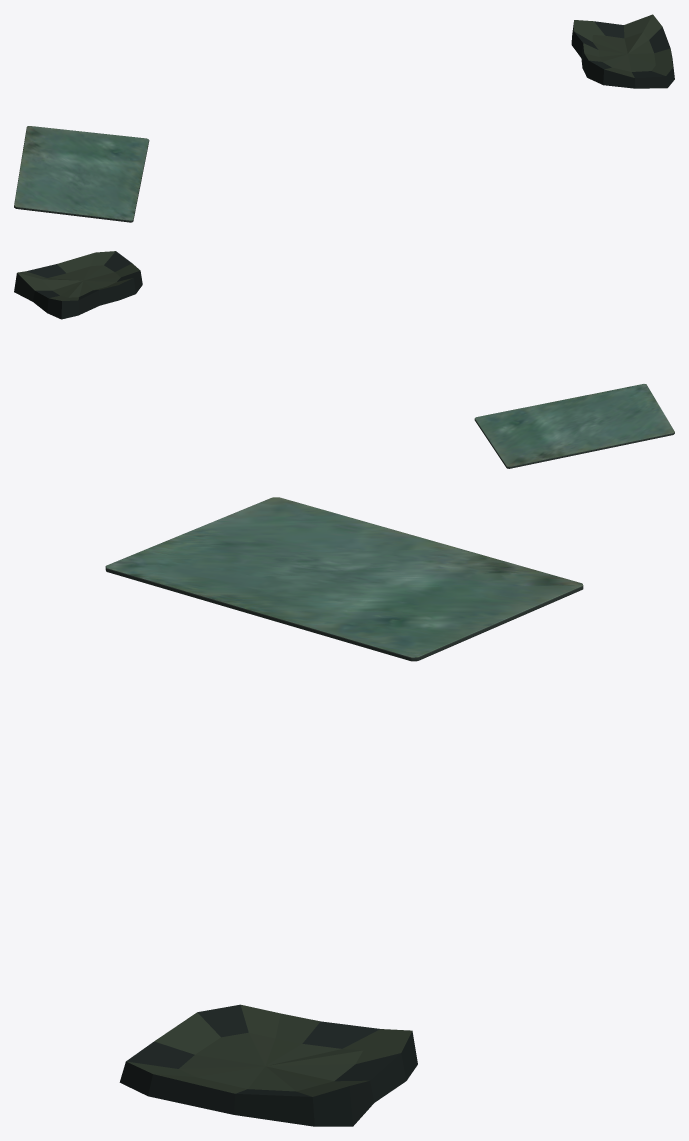
File: yungu-ground-fixtures.glb
The picture shows the model from 3 angles, top to bottom: view 1: azimuth 30°, elevation 25°; view 2: azimuth 150°, elevation 25°; view 3: azimuth 270°, elevation 25°; orthographic projection. The views are drawn at different scales.
Visible parts, largest first — view 1: Capture17 foreground green cover, Capture17 low object silhouette – function unknown; view 2: Capture17 foreground green cover, Capture17 low object silhouette – function unknown; view 3: Capture17 foreground green cover, Capture17 low object silhouette – function unknown.
Part boxes in pixels (bbox=[...]): Capture17 foreground green cover: bbox=[14, 126, 149, 222]; Capture17 low object silhouette – function unknown: bbox=[571, 14, 674, 88]; Capture17 foreground green cover: bbox=[474, 384, 674, 468]; Capture17 low object silhouette – function unknown: bbox=[14, 251, 142, 319]; Capture17 foreground green cover: bbox=[105, 497, 583, 661]; Capture17 low object silhouette – function unknown: bbox=[119, 1004, 417, 1126].
Size of the model in its own units: 4.98 by 0.144 by 1.61.
4 materials, 1 textured.
